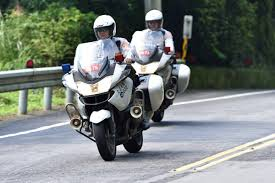helmet: (90, 16, 117, 36), (145, 10, 165, 24)
